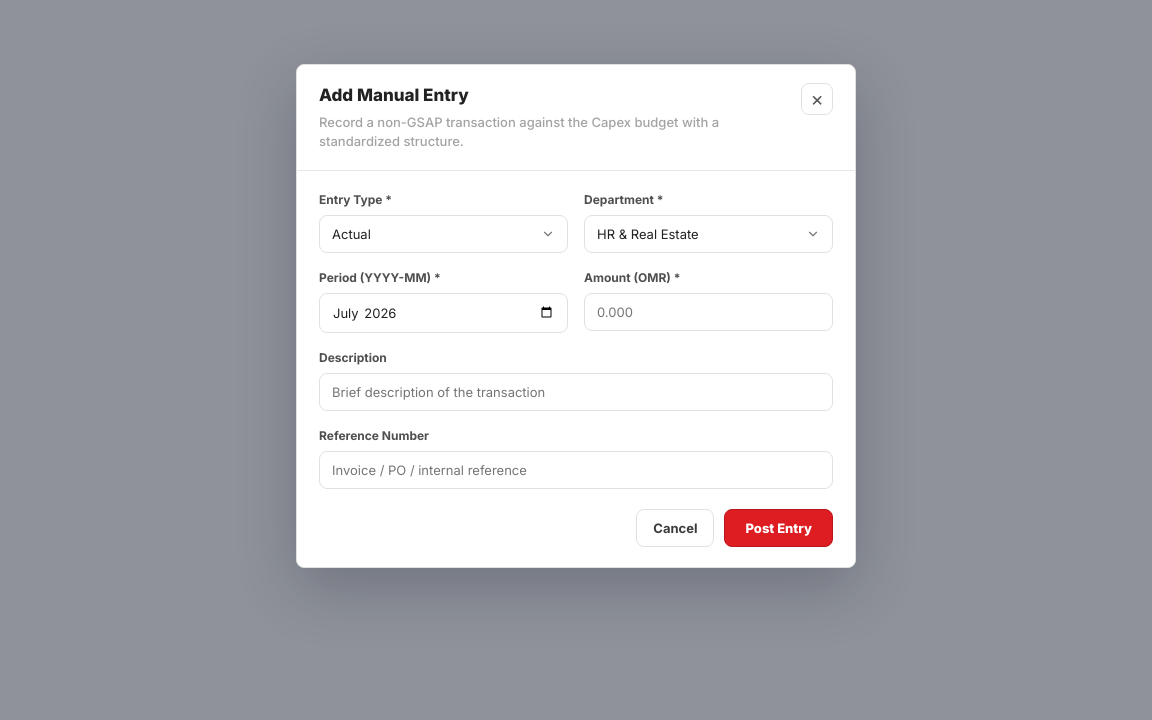
Test: ManualEntryModal — validation › shows error message when amount is empty on submit
What coordinates should you click on to do the following:
click the button "Post Entry"
I would click on:
 (779, 528)
Its box is [724,508,833,546].
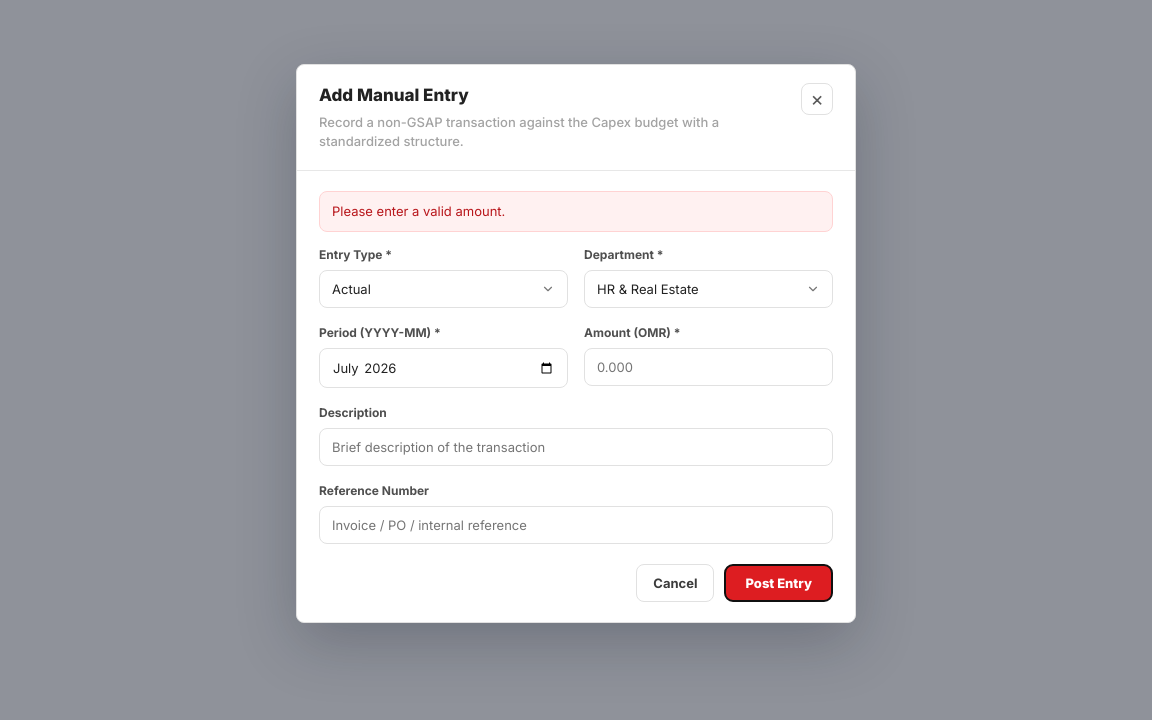
Check: the text "Please enter a valid amount." is shown, box [319,190,833,232]
